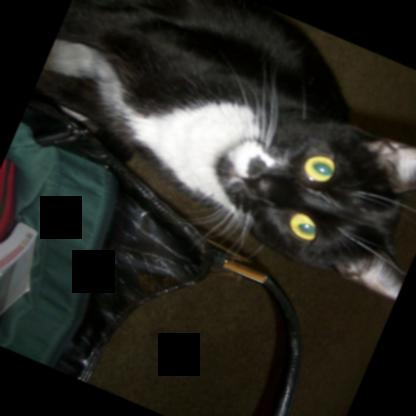handbag: (0, 86, 305, 416)
